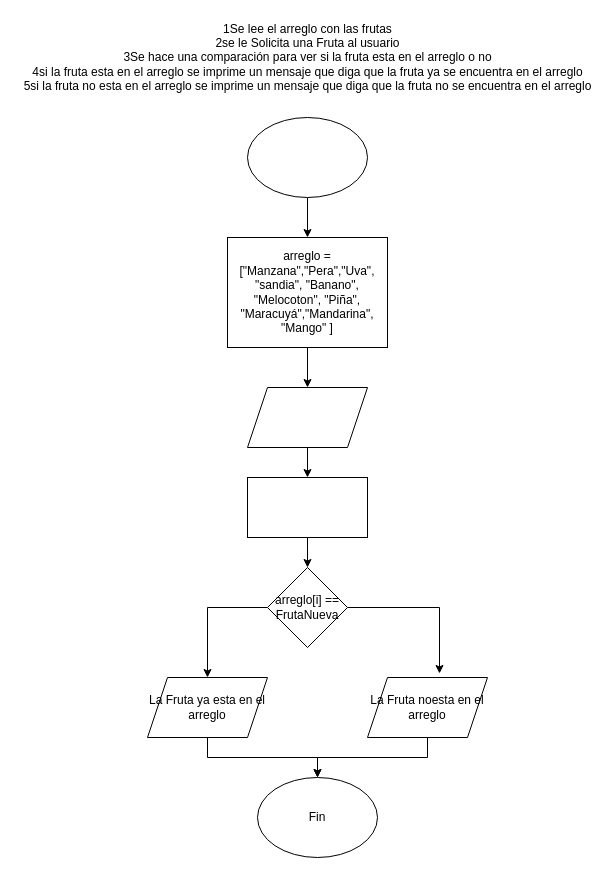
The diagram is 614 pixels wide and 875 high, and some of its shapes have lost their labels. The shapes that lost their labels are listed below. From the top down, each one's centre as x and y in pixels, then its label:
(307,157): inicio
(307,417): Leer: FrutaNueva
(307,507): Agregar Fruta nueva al arreglo
